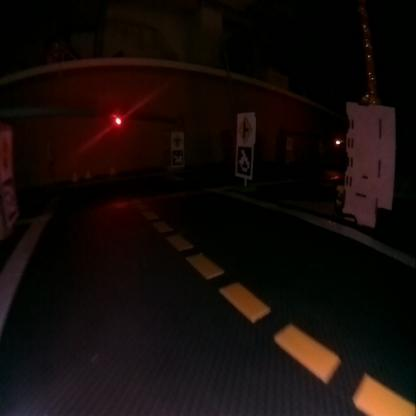Duckie: (109, 166, 115, 175), (71, 172, 77, 180), (85, 170, 91, 178)
Intersection sign: (237, 115, 252, 142), (172, 133, 182, 148)
QR code: (236, 146, 251, 174), (171, 149, 183, 166)
Traffic light: (112, 112, 122, 126)
